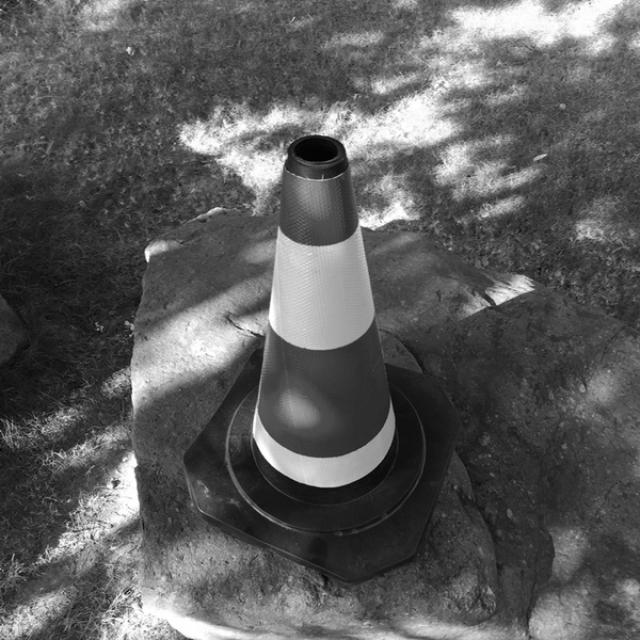reflective_cone: (180, 126, 458, 579)
